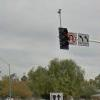Traffic light: (55, 20, 70, 51)
